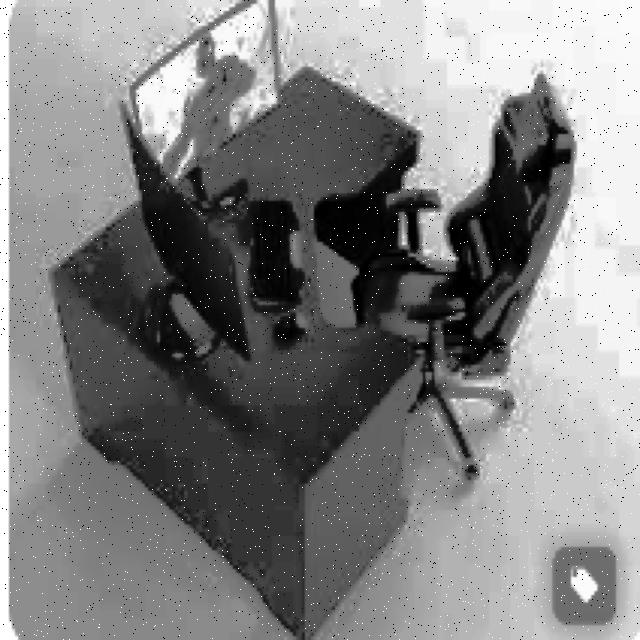book: (353, 71, 577, 480)
table: (51, 63, 426, 640)
